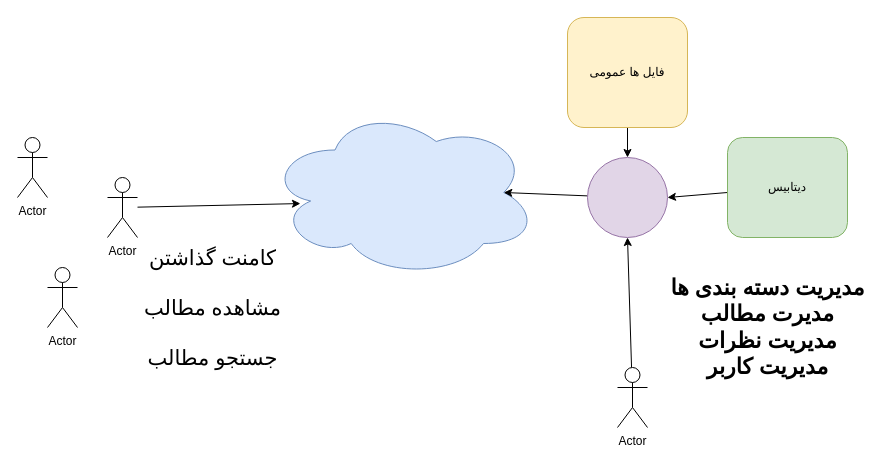
This 895x466 diagram has some shape labels left out. Here are the shapes that lost their labels. From the top down, the centre of each, then its label:
At (x=402, y=192): "اخبار روز دنیا".
At (x=627, y=197): "nodejs".
